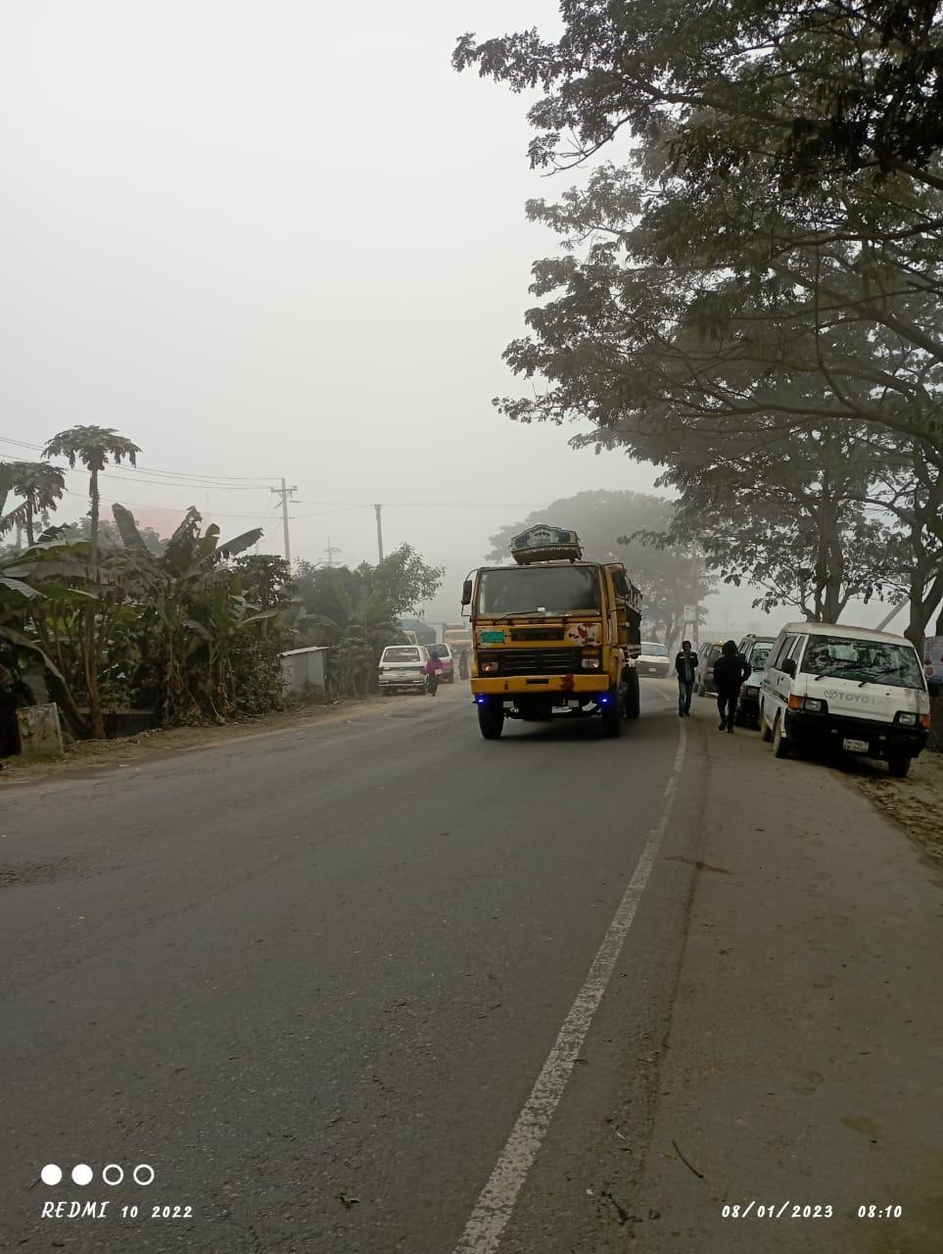Car: (749, 614, 940, 792), (365, 638, 447, 698), (636, 635, 679, 681)
Truck: (448, 518, 654, 740)
